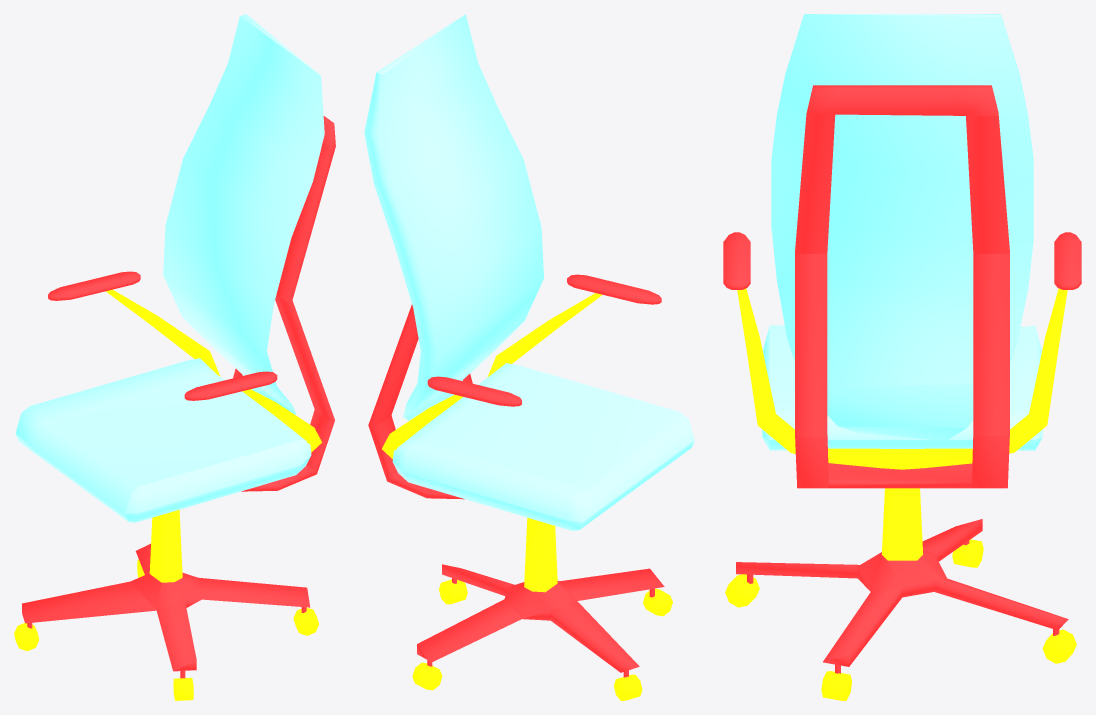
Rendered from MOD_FUR_CPU_chair_01.fbx.
3 views of the same model, side by side, from view 1: azimuth 30°, elevation 25°; view 2: azimuth 150°, elevation 25°; view 3: azimuth 270°, elevation 25° (orthographic). The views are drawn at different scales.
Visible parts, largest first — view 1: polySurface5; view 2: polySurface5; view 3: polySurface5.
Part boxes in pixels (x1,y1,x2,y2): polySurface5: [14, 14, 335, 700]; polySurface5: [364, 14, 694, 700]; polySurface5: [723, 14, 1081, 700].
Bounding box in the file's own units: 73.9 × 156 × 73.91.
